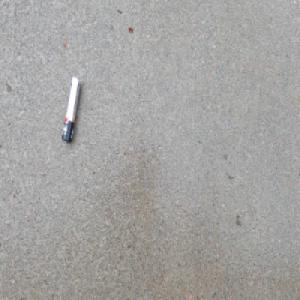Battery: (59, 75, 81, 145)
